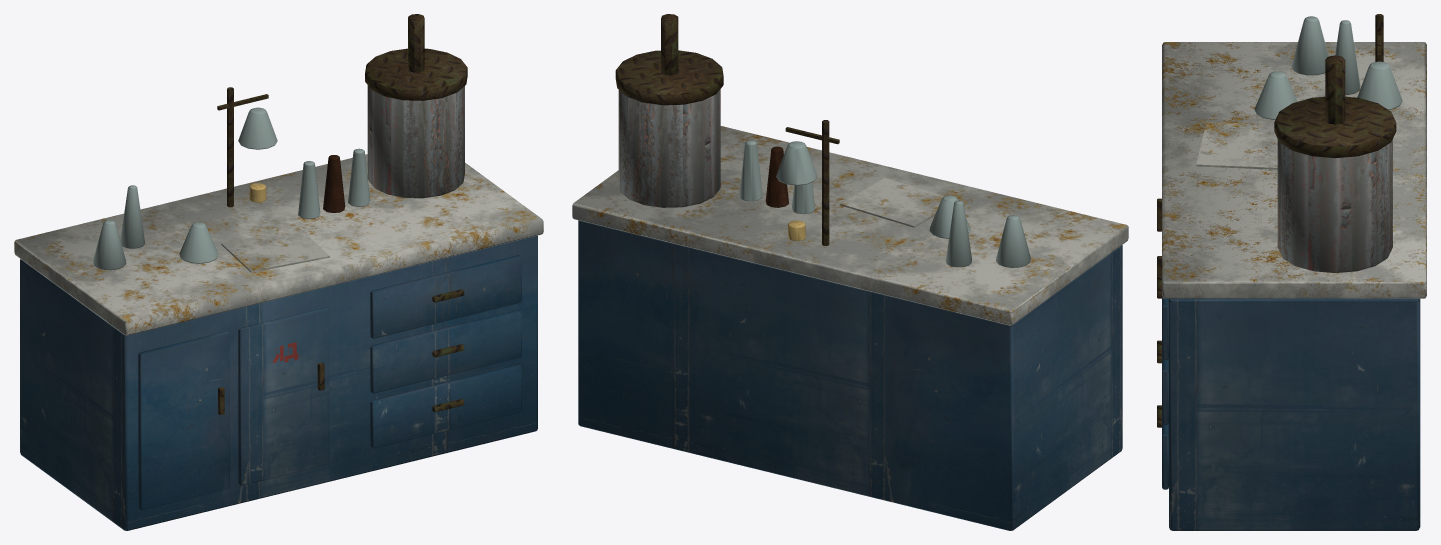
File: deploy_chem.glb
3 views of the same model, side by side, from view 1: azimuth 30°, elevation 25°; view 2: azimuth 150°, elevation 25°; view 3: azimuth 270°, elevation 25° (orthographic). The views are drawn at different scales.
Visible parts, largest first — view 1: box, box.001, box.002, box.004, cyl.009, box.008, box.006, box.010, cyl.010, box.013, cyl.004, cyl (+7 smaller); view 2: box, box.001, cyl.009, cyl.010, box.013, cyl.004, cyl, cyl.001, cyl.008, cyl.011, cyl.003, cyl.007 (+1 smaller); view 3: box, box.001, cyl.009, cyl.010, box.013, cyl, cyl.004, cyl.011, cyl.002, cyl.001, box.006, box.008 (+2 smaller).
Boxes of the visible parts, <box> form: box: <box>20,235,537,530</box>; box.001: <box>14,154,543,335</box>; box.002: <box>138,331,229,510</box>; box.004: <box>238,307,329,485</box>; cyl.009: <box>367,85,464,198</box>; box.008: <box>370,310,521,393</box>; box.006: <box>370,364,521,448</box>; box.010: <box>370,255,521,338</box>; cyl.010: <box>365,48,467,100</box>; box.013: <box>221,228,329,272</box>; cyl.004: <box>238,107,277,149</box>; cyl: <box>93,220,126,270</box>; box: <box>578,220,1122,530</box>; box.001: <box>572,126,1128,325</box>; cyl.009: <box>618,89,720,207</box>; cyl.010: <box>615,50,723,105</box>; box.013: <box>840,178,944,227</box>; cyl.004: <box>776,141,817,185</box>; cyl: <box>996,215,1030,267</box>; cyl.001: <box>945,200,971,267</box>; cyl.008: <box>739,140,762,201</box>; cyl.011: <box>661,14,678,75</box>; cyl.003: <box>822,120,829,245</box>; cyl.007: <box>765,146,788,207</box>; box: <box>1169,298,1420,530</box>; box.001: <box>1162,42,1426,298</box>; cyl.009: <box>1277,139,1392,272</box>; cyl.010: <box>1274,96,1396,158</box>; box.013: <box>1196,121,1277,169</box>; cyl: <box>1291,16,1328,75</box>; cyl.004: <box>1357,61,1402,109</box>; cyl.011: <box>1325,55,1345,124</box>; cyl.002: <box>1254,71,1297,119</box>; cyl.001: <box>1335,20,1360,94</box>; box.006: <box>1162,423,1168,489</box>; box.008: <box>1162,358,1168,424</box>.
Size of the model in its own units: 1.68 by 1.44 by 0.795.
Materials: 8 (7 with a texture image).
